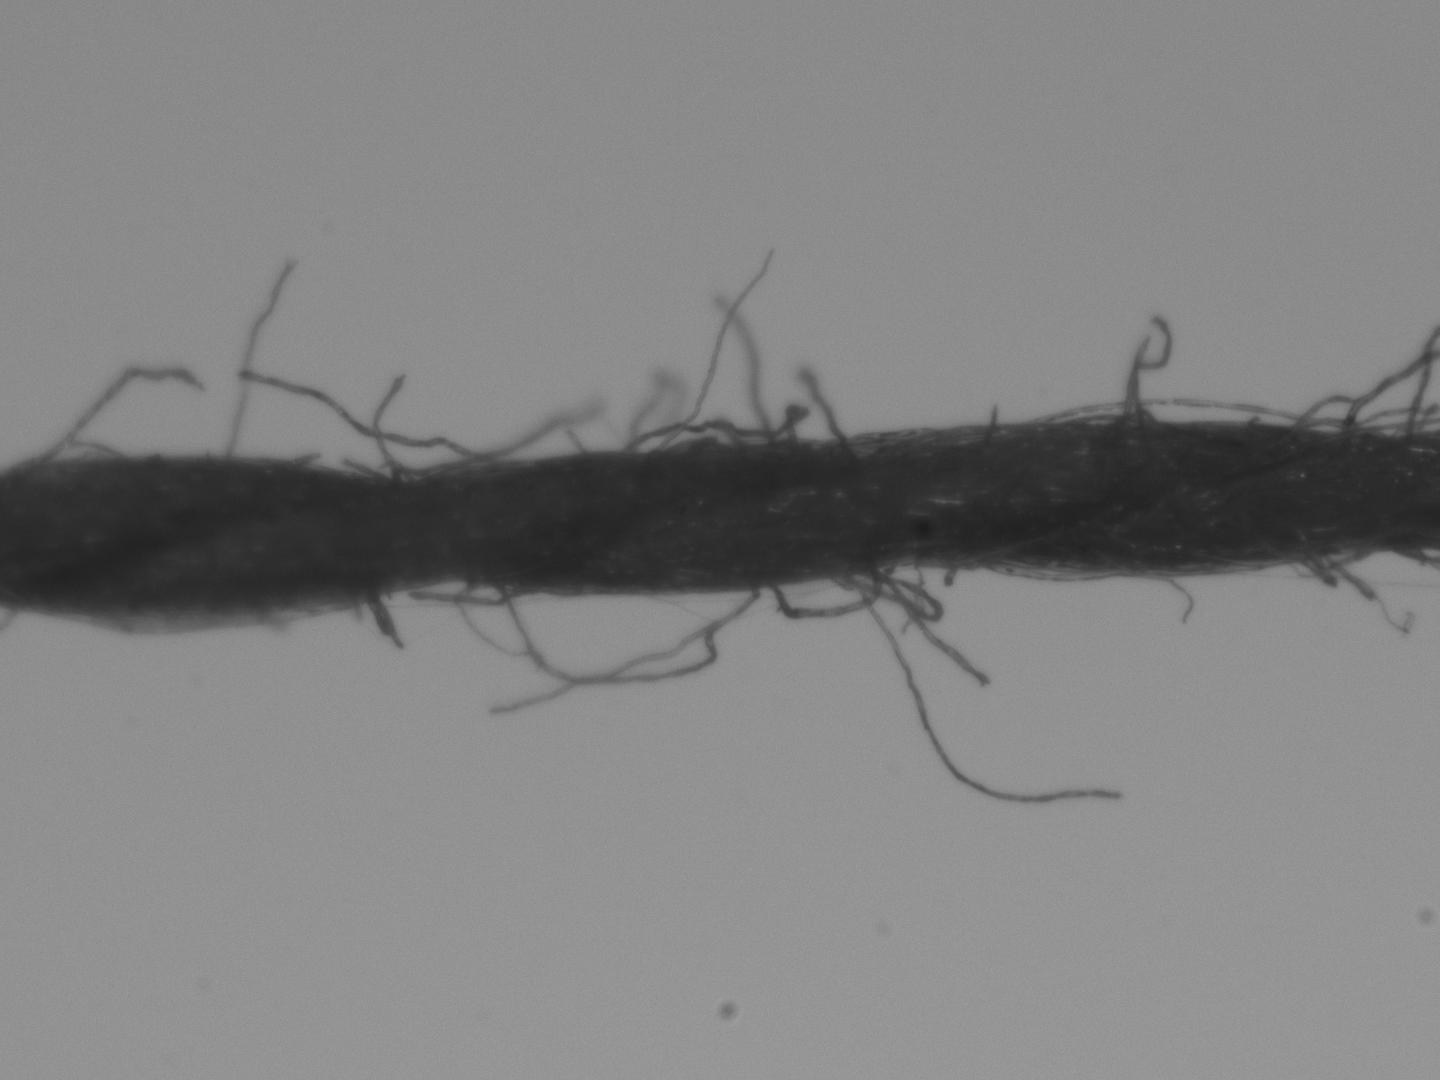loop_fiber: (493, 583, 753, 689), (629, 402, 810, 453), (1033, 396, 1305, 429), (769, 572, 876, 624), (981, 559, 1123, 583)
protruding_fiber: (852, 576, 1119, 809), (29, 361, 200, 471), (221, 258, 295, 454), (370, 374, 408, 482), (798, 361, 838, 442), (366, 597, 400, 646)
